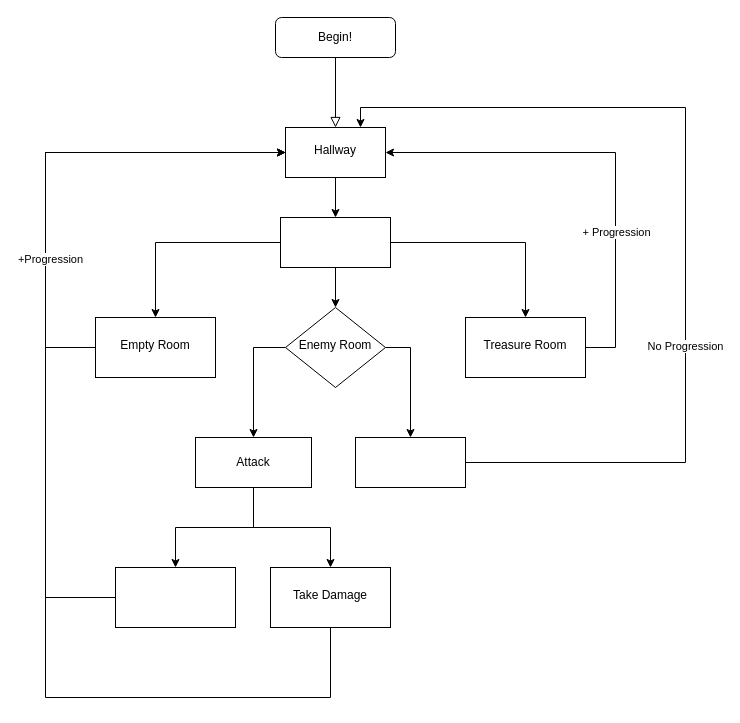
This 740x723 diagram has some shape labels left out. Each missing label, with the centre of its shape:
"Don't Take Damage" goes at (175,597).
"Random Roll (Go Left/Right)" goes at (335,242).
"Run" goes at (410,462).
